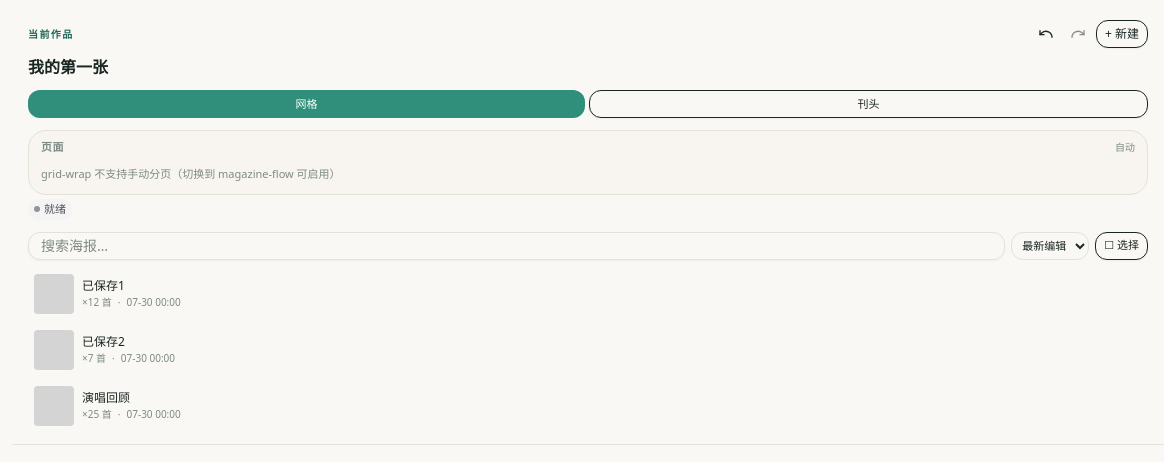
Test case: PostersSidebar - 右键菜单 › 右键打开菜单（重命名/复制/删除）
Right-click the button "已保存1 ×12 首 · 07-30 00:00" at (107, 294), box [34, 274, 181, 314]
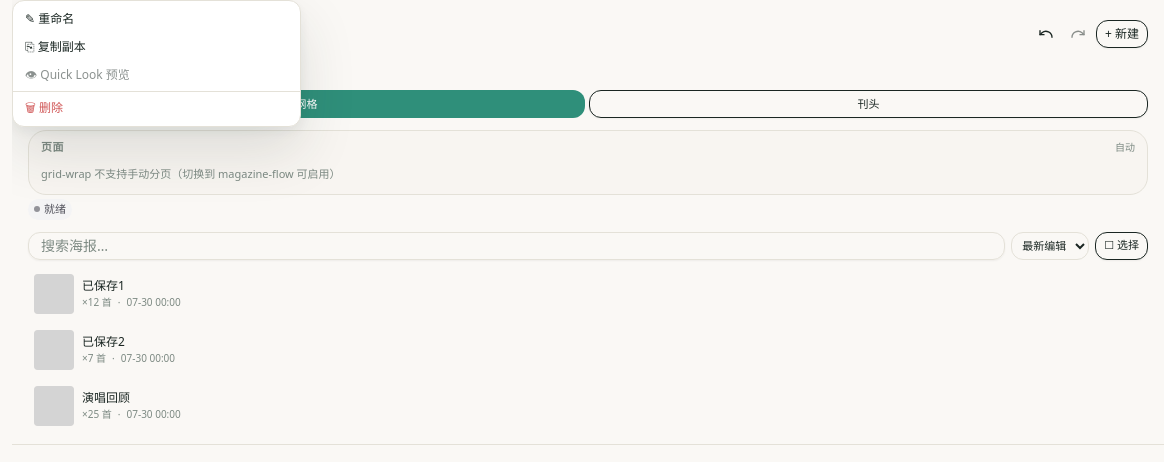
Result: the menu with test id "poster-context-menu" is shown at [12, 0, 301, 127]
Result: the menu item with test id "poster-context-rename" is shown at [13, 5, 300, 33]
Result: the menu item with test id "poster-context-duplicate" is shown at [13, 33, 300, 61]
